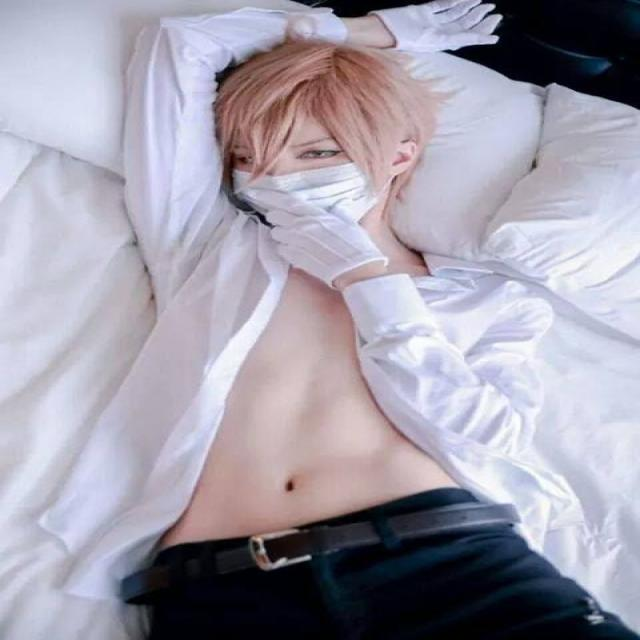lie: (118, 3, 558, 640)
